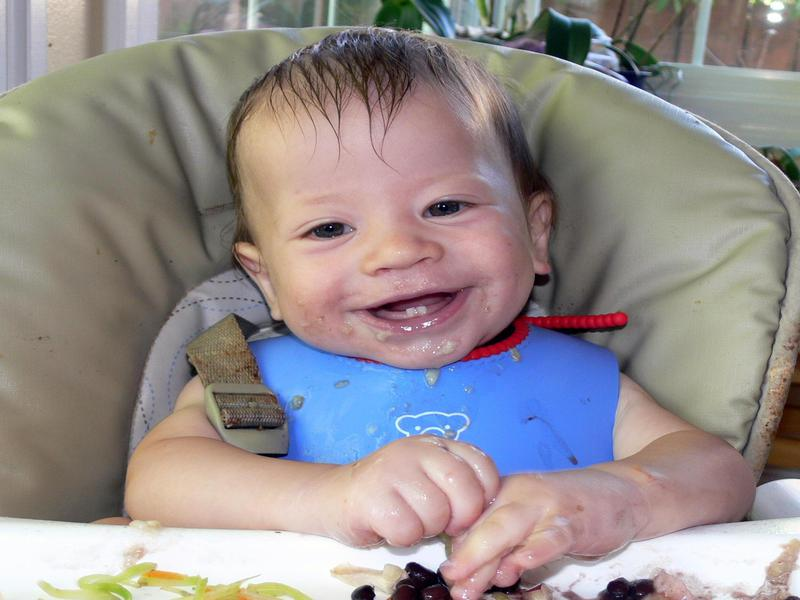person: (121, 21, 754, 598)
